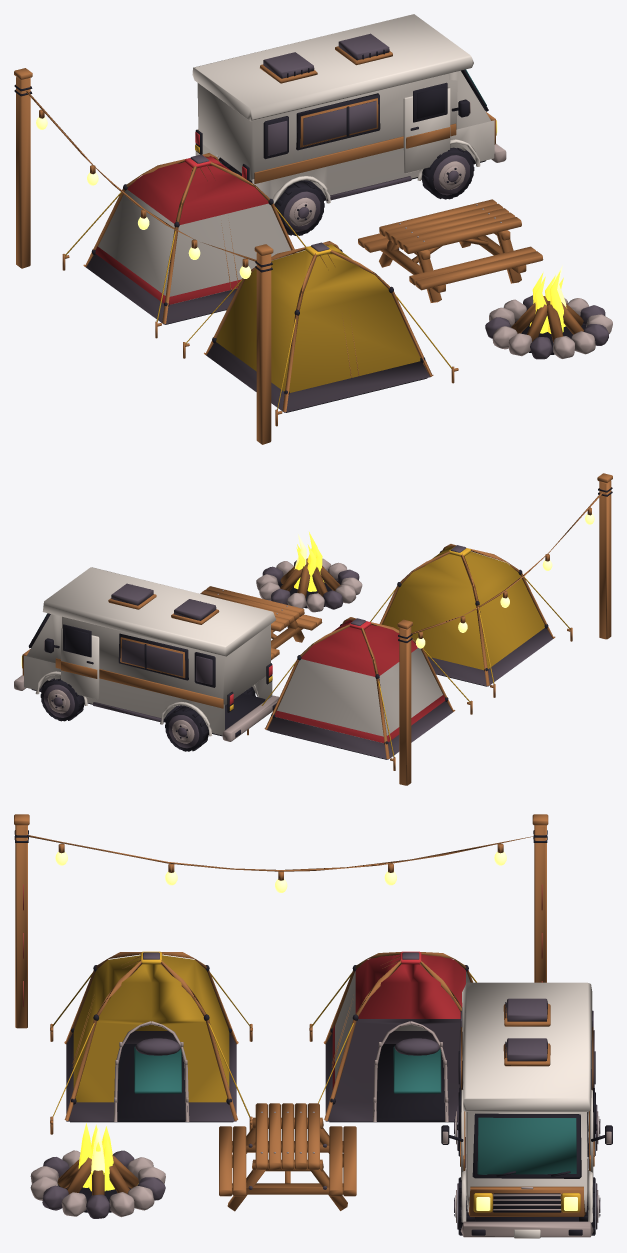
The model's file is kit.campground.lod1.glb.
The picture shows the model from 3 angles, top to bottom: view 1: azimuth 30°, elevation 25°; view 2: azimuth 150°, elevation 25°; view 3: azimuth 270°, elevation 25°; orthographic projection. The views are drawn at different scales.
Parts seen in each view (by area): view 1: object 5, door_R, wheelFR; view 2: object 5, door_L, wheelFL; view 3: object 5.
Boxes of the visible parts, box(x1,y1,x2,y2) form: object 5: box(14, 14, 612, 444); door_R: box(403, 82, 450, 173); wheelFR: box(421, 147, 474, 199); object 5: box(14, 473, 612, 785); door_L: box(61, 624, 99, 699); wheelFL: box(40, 678, 84, 721); object 5: box(14, 814, 612, 1238).
Bounding box in the file's own units: 8.52 × 3.49 × 9.01.
